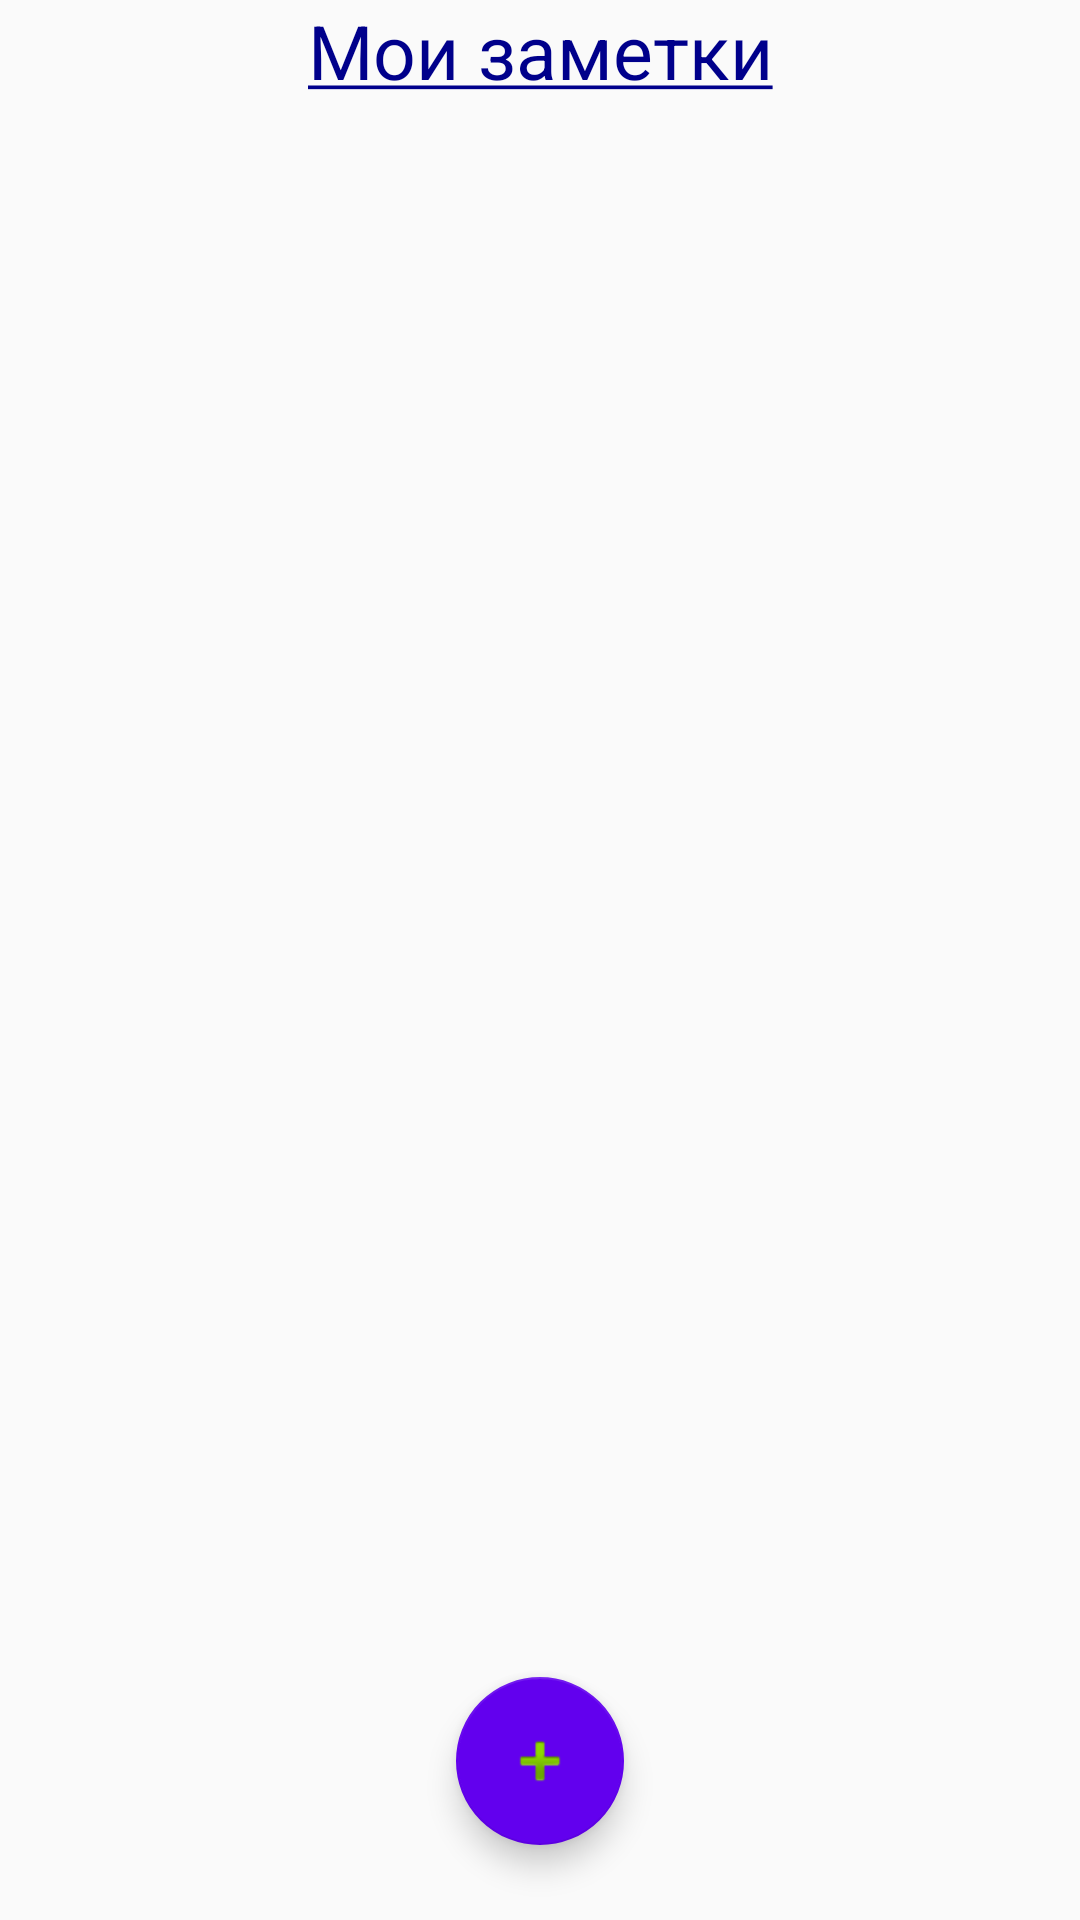

Locate icon controls on the screen. Image size 1080 x 1920, boxes as {"left": x1, "top": y1, "right": x2, "bottom": y2}.
add: {"left": 456, "top": 1677, "right": 624, "bottom": 1845}
